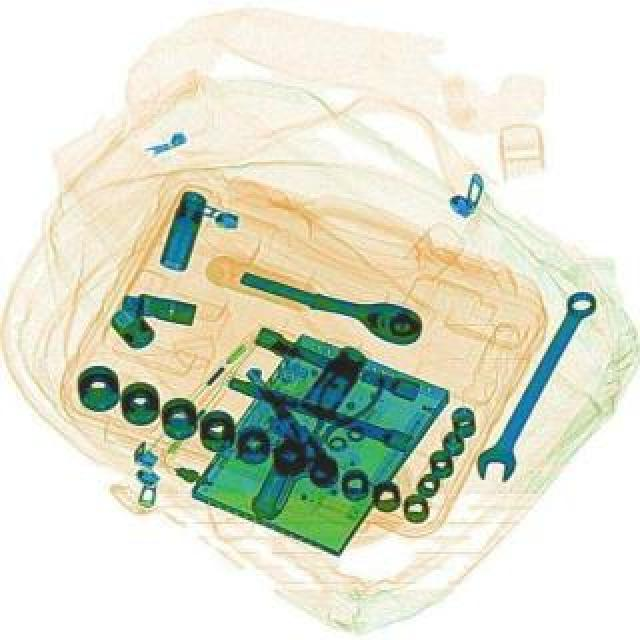gun: (182, 360, 338, 524)
scissors: (468, 284, 608, 488)
wrench: (276, 354, 388, 474)
